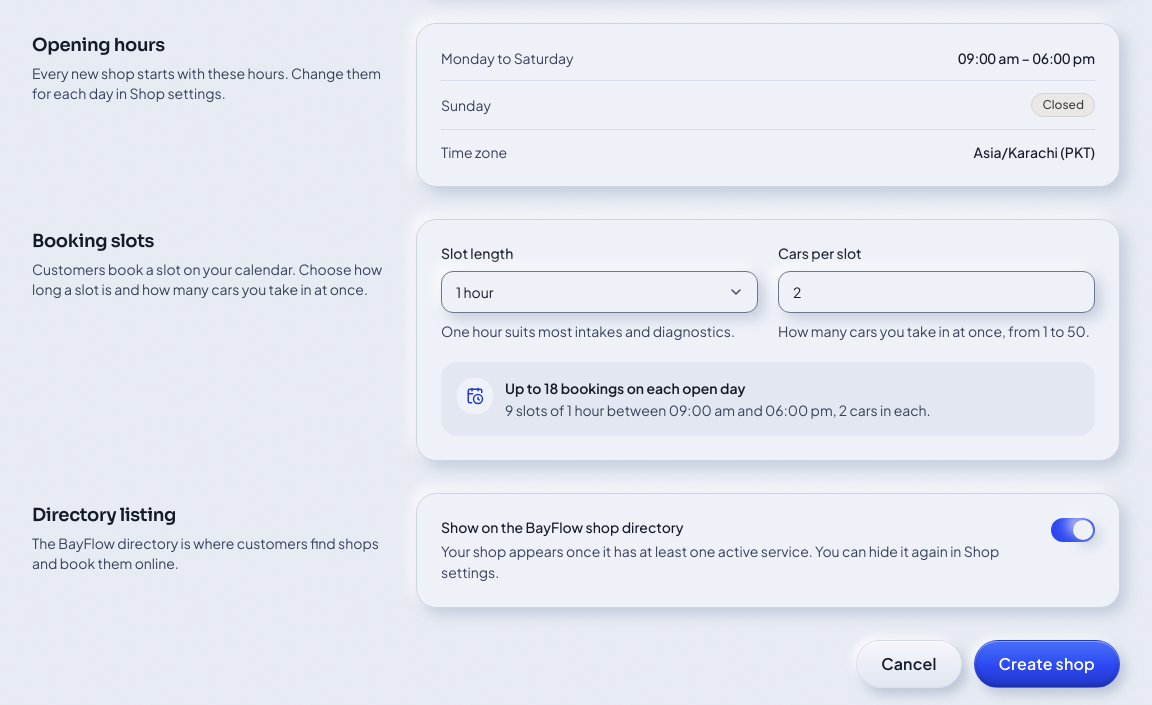
it: S-03 / O-05 create shop › reports what is missing and puts the keyboard on the first field
(page scrolled)
Click the button "Create shop". click: click(1047, 664)
box: [974,640,1120,688]
(page scrolled)
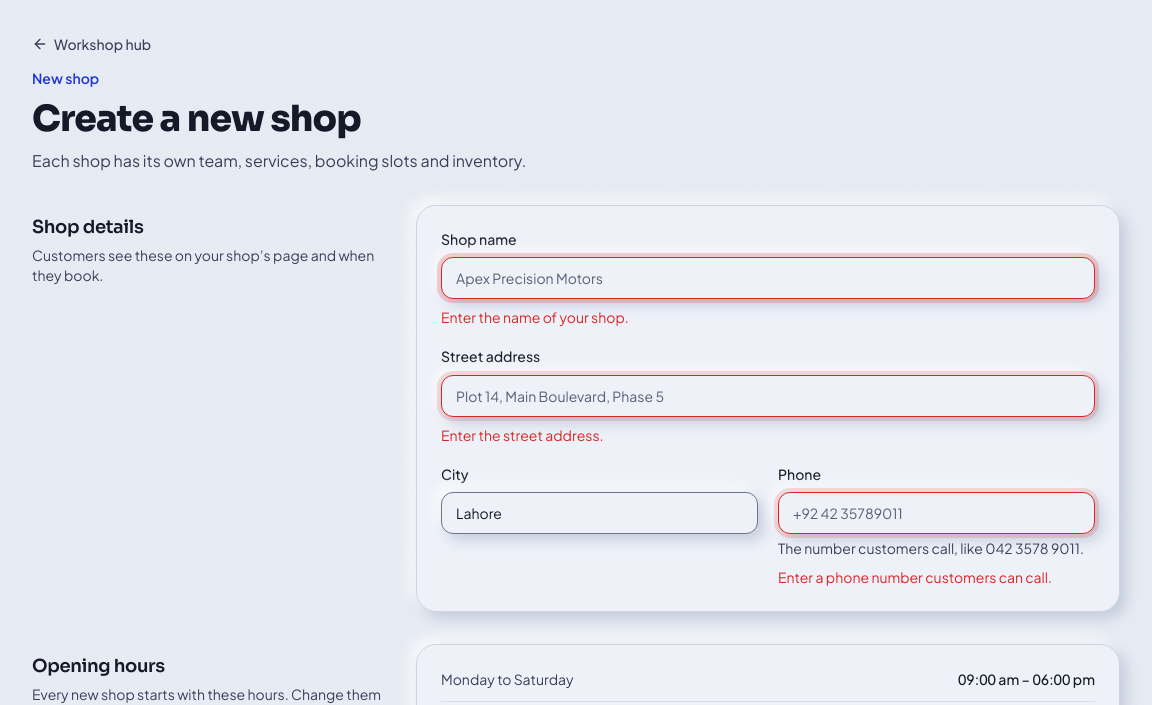
Result: the text "Enter the street address." is shown at [441,426,604,444]
Result: the text "Enter a phone number customers can call." is shown at [778,567,1095,587]
